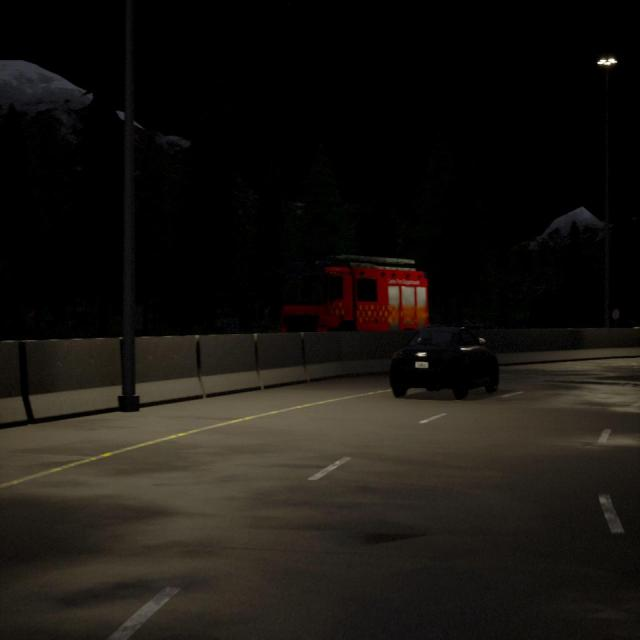Traffic_Signs: (612, 309, 620, 319)
Vehicle: (282, 255, 429, 331), (387, 324, 501, 400)
